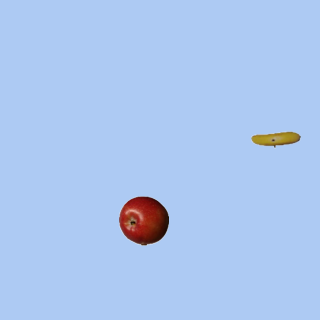Apple Braeburn: (118, 195, 168, 245)
Banana: (250, 114, 300, 164)
